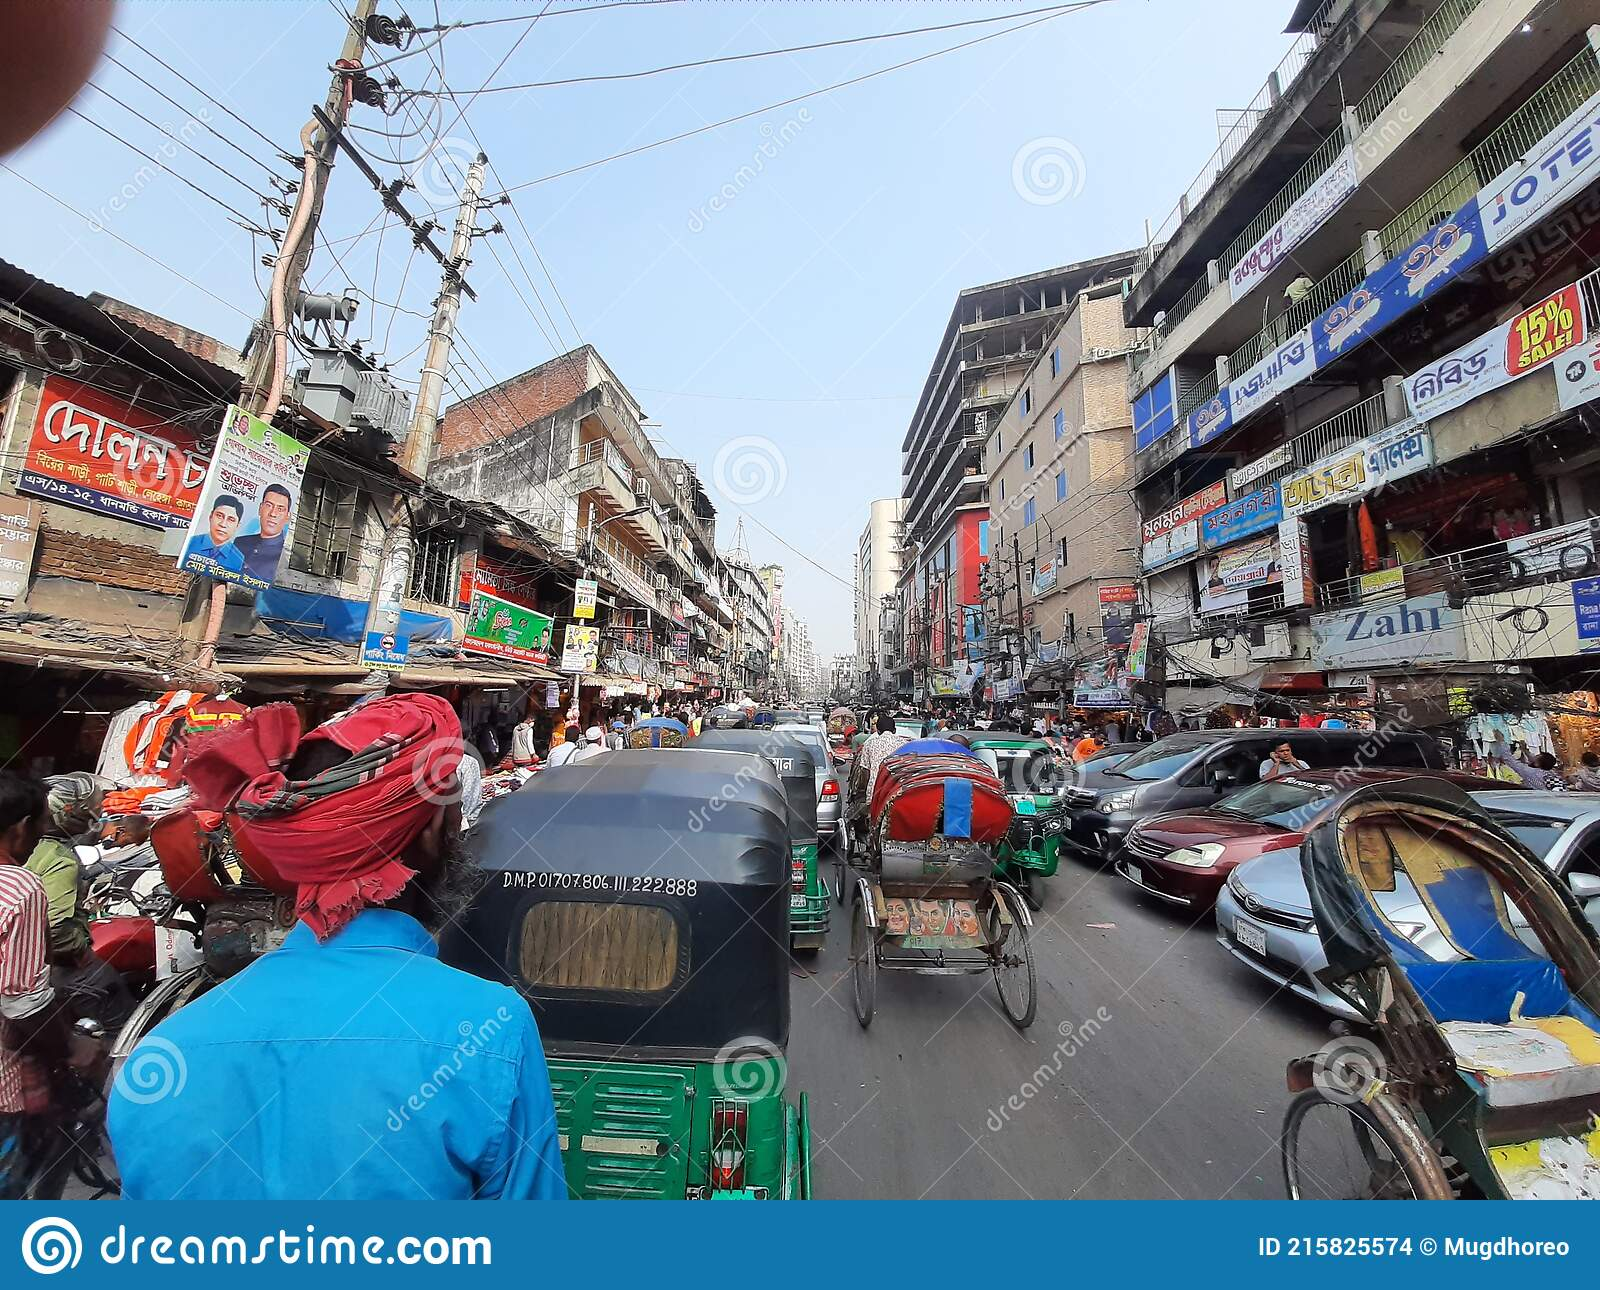5: (1264, 777, 1600, 1197), (854, 742, 1043, 1040)
bus: (467, 744, 811, 1200), (1001, 717, 1070, 891)
car: (1118, 760, 1488, 900)
